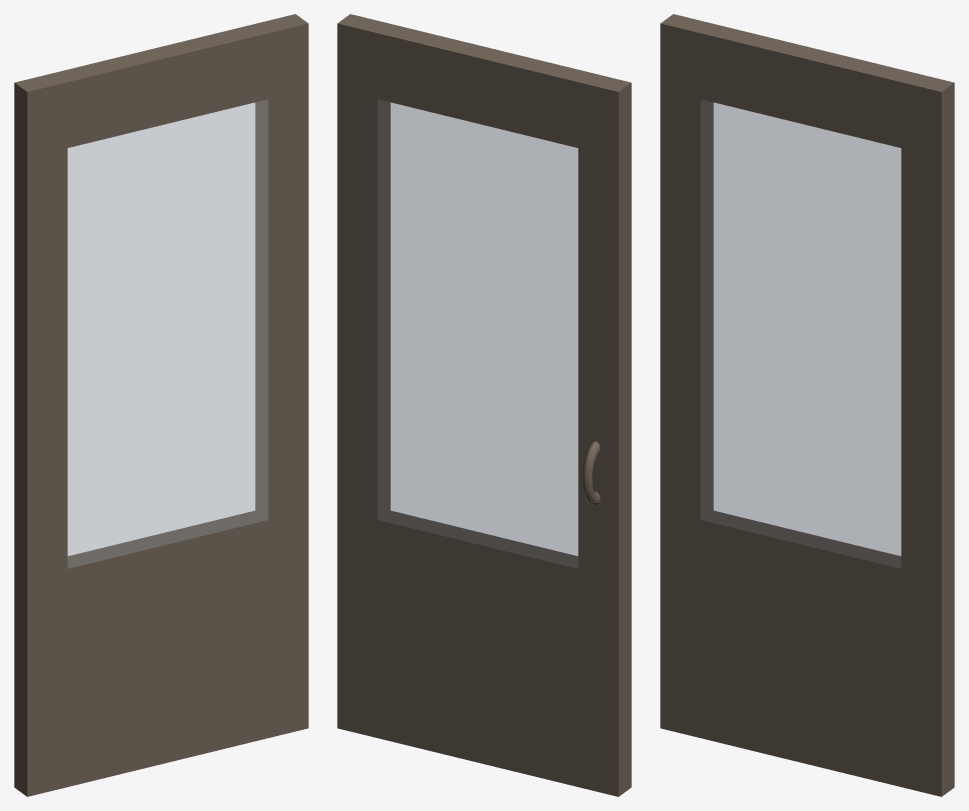
File: DeurSlager.fbx
The picture shows the model from 3 angles, left to right: view 1: azimuth 30°, elevation 25°; view 2: azimuth 150°, elevation 25°; view 3: azimuth 330°, elevation 25°; orthographic projection.
Parts seen in each view (by area): view 1: deur; view 2: deur; view 3: deur.
Part boxes in pixels (left/top/right/bottom): deur: left=14, top=14, right=308, bottom=796; deur: left=337, top=14, right=631, bottom=796; deur: left=660, top=14, right=954, bottom=796.
Bounding box in the file's own units: 417 × 1000 × 64.46.
